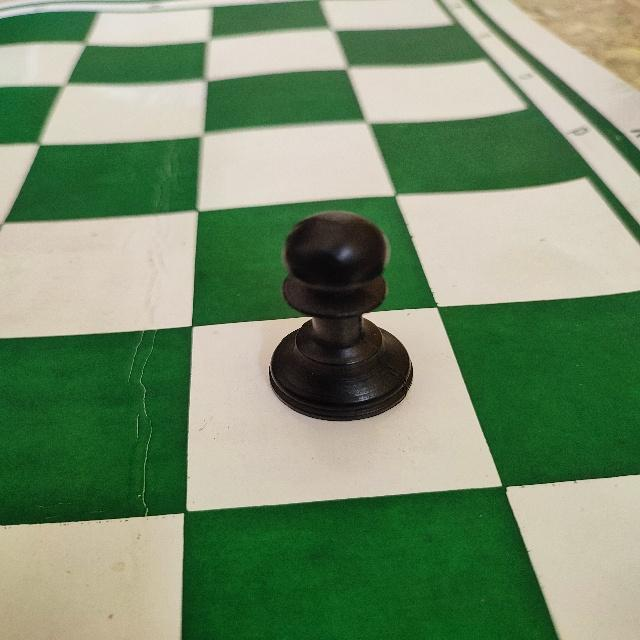Pawn: (264, 208, 420, 424)
